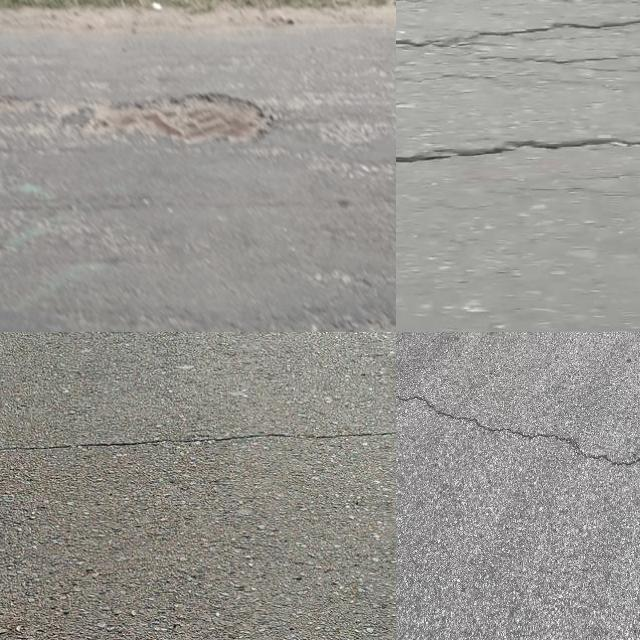Lubang: (57, 92, 281, 146)
Melintang: (396, 384, 640, 479), (0, 417, 396, 468), (396, 3, 640, 59), (396, 126, 640, 181)
